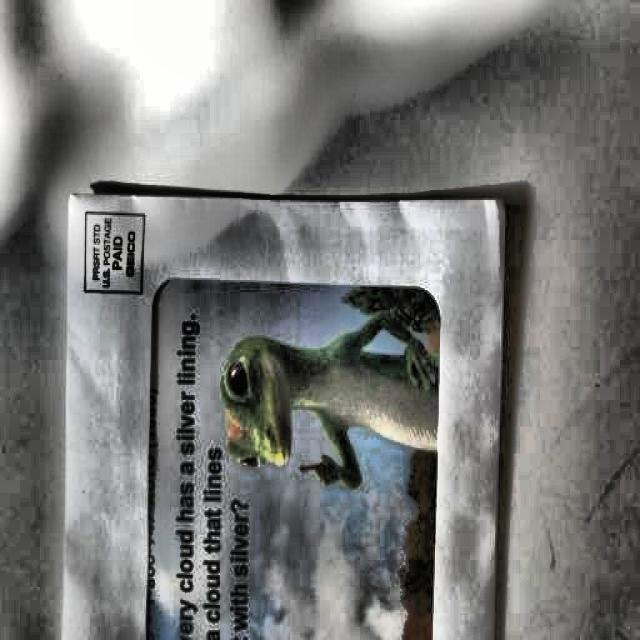paper: (61, 191, 502, 640)
